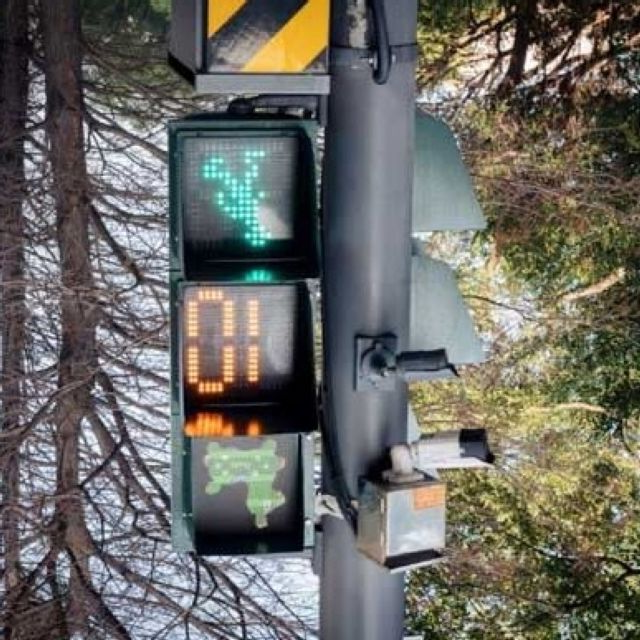green_light: (169, 126, 320, 430)
